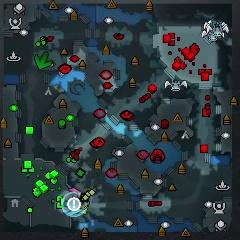Other: (67, 197, 81, 210)
x1: (67, 188, 82, 199)
x2: (79, 202, 88, 215)
x3: (66, 207, 80, 216)
x4: (34, 52, 52, 70)
